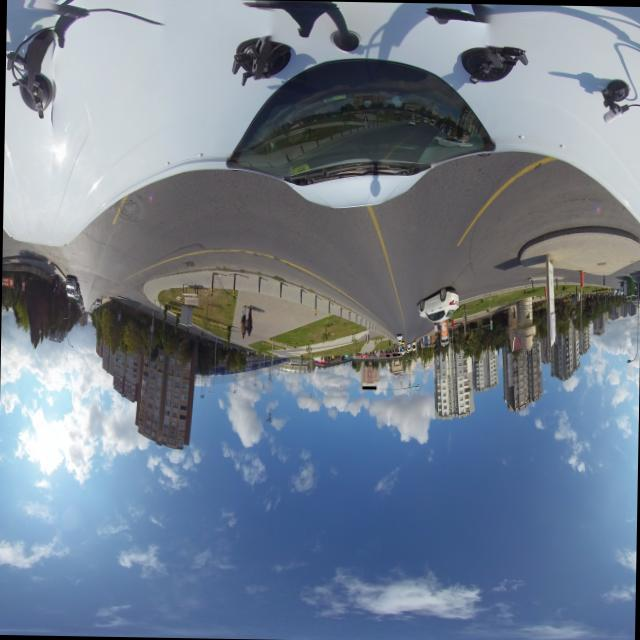SignStore: (361, 385, 375, 388), (391, 353, 395, 355), (396, 352, 399, 354), (385, 353, 388, 355)
